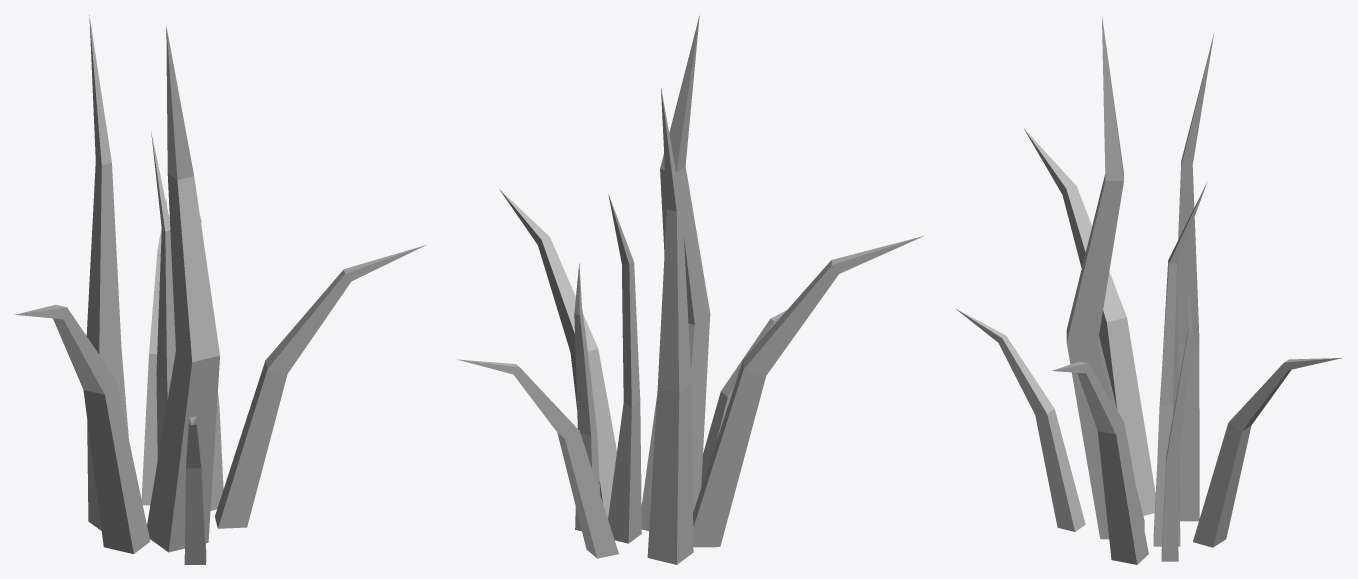
Rendered from Grass_09.fbx.
3 renders of one model, left to right at view 1: azimuth 30°, elevation 25°; view 2: azimuth 150°, elevation 25°; view 3: azimuth 270°, elevation 25°, orthographic. The views are drawn at different scales.
Visible parts, largest first — view 1: Grass_09; view 2: Grass_09; view 3: Grass_09.
Part boxes in pixels (x1,y1,x2,y2): Grass_09: [15, 15, 425, 564]; Grass_09: [458, 15, 924, 564]; Grass_09: [955, 16, 1341, 564].
Bounding box in the file's own units: 1.66 × 1.95 × 1.36.
